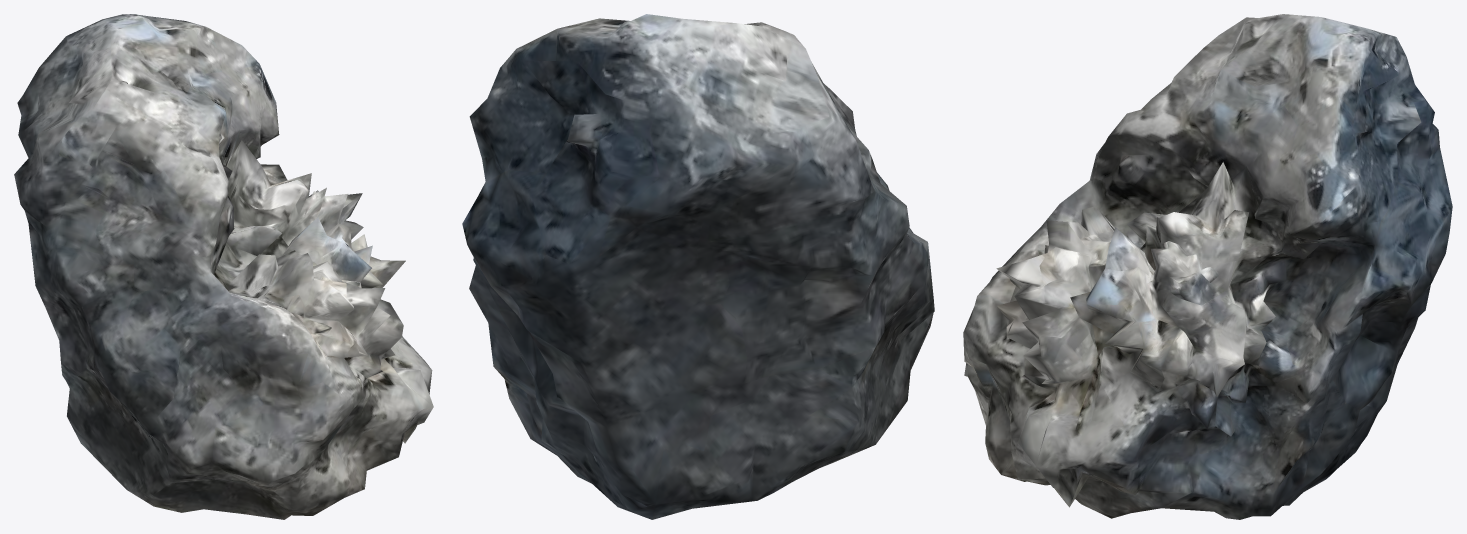
Rendered from qi_sample.glb.
3 views of the same model, side by side, from view 1: azimuth 30°, elevation 25°; view 2: azimuth 150°, elevation 25°; view 3: azimuth 270°, elevation 25° (orthographic). The views are drawn at different scales.
Parts seen in each view (by area): view 1: tripo_node_9f62dcbf-eabe-4520-a3c0-44288b64954e; view 2: tripo_node_9f62dcbf-eabe-4520-a3c0-44288b64954e; view 3: tripo_node_9f62dcbf-eabe-4520-a3c0-44288b64954e.
Boxes of the visible parts, x1,y1,x2,y2 form: tripo_node_9f62dcbf-eabe-4520-a3c0-44288b64954e: [14, 14, 433, 519]; tripo_node_9f62dcbf-eabe-4520-a3c0-44288b64954e: [462, 14, 934, 519]; tripo_node_9f62dcbf-eabe-4520-a3c0-44288b64954e: [963, 14, 1452, 519].
Bounding box in the file's own units: 0.8308 × 1 × 0.996.
1 material, 1 textured.
